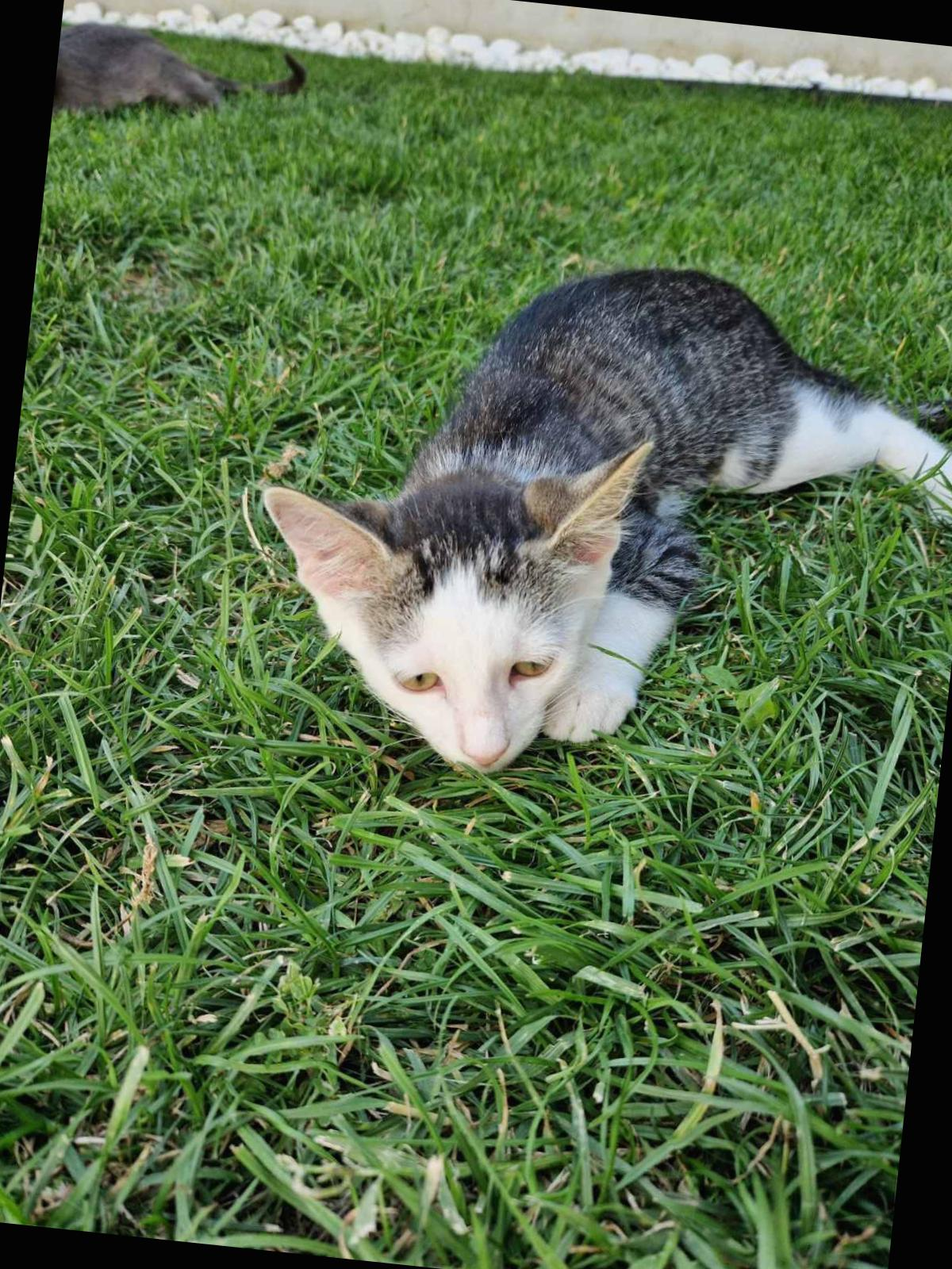macka: (234, 224, 952, 826), (52, 15, 315, 140)
